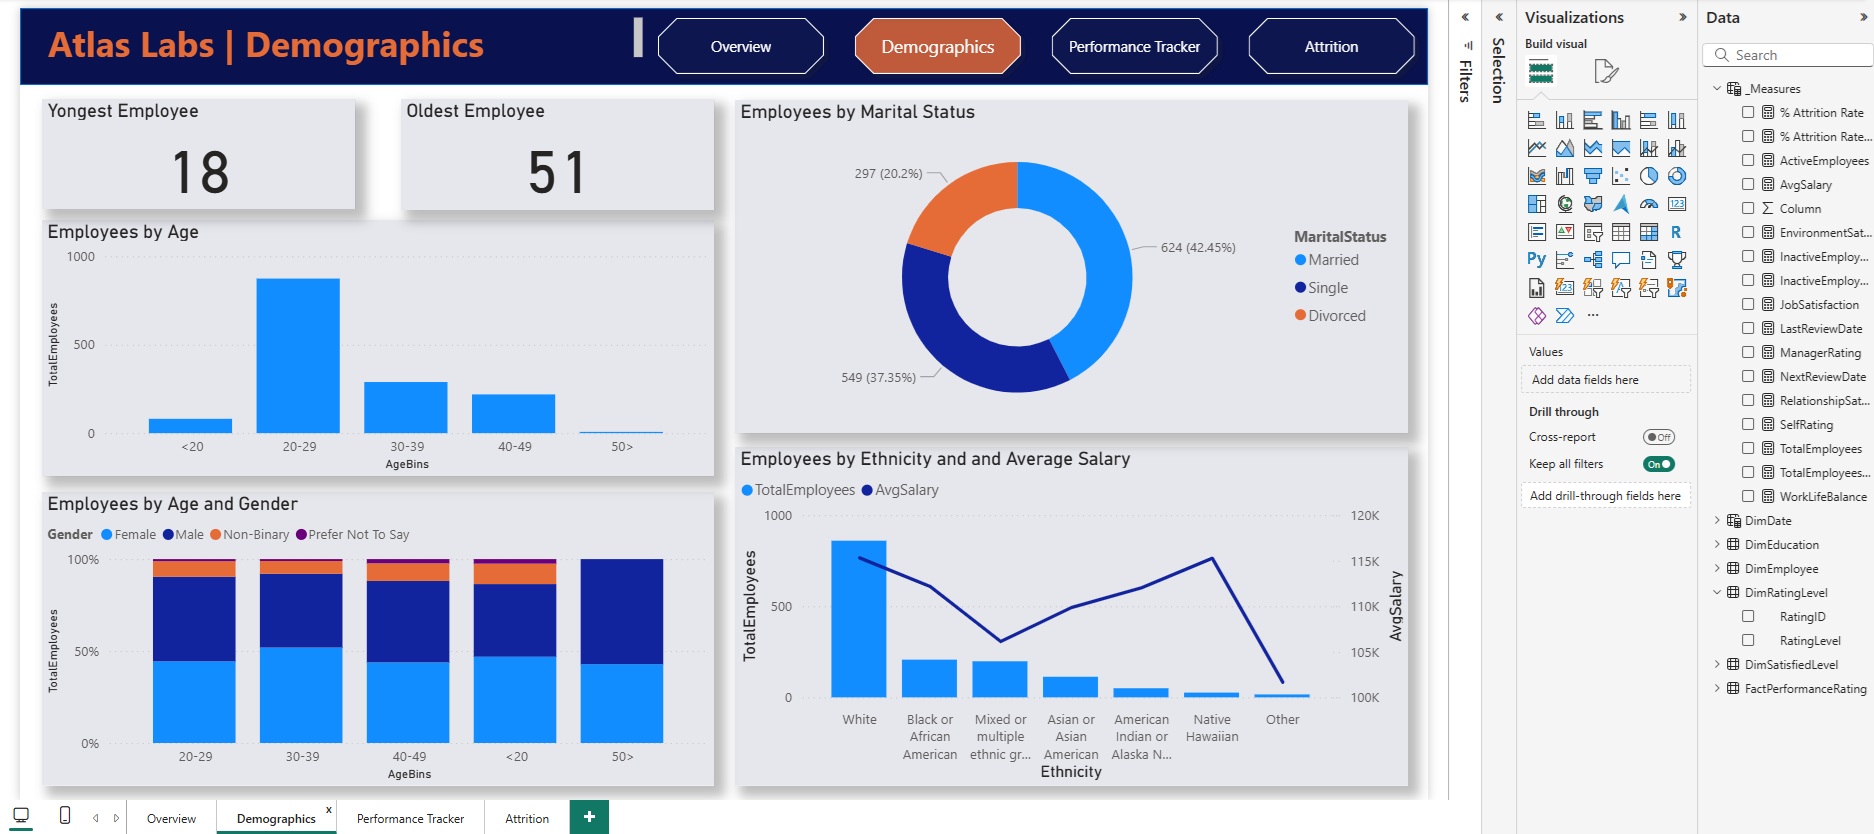

What the dashboard file says about the page in this screenshot:
{"tool":"powerbi","page":{"name":"Demographics","canvas":[1280,720],"ordinal":1},"visuals":[{"type":"card","title":"Yongest Employee","fields":{"Values":["Min(DimEmployee.Age)"]},"box":[19.8,82.6,285,100],"z":0},{"type":"card","title":"Oldest Employee","fields":{"Values":["Max(DimEmployee.Age)"]},"box":[346.5,82.6,284.6,100.5],"z":1000},{"type":"columnChart","title":"Employees by Age","fields":{"Y":["_Measures.TotalEmployees"],"Category":["DimEmployee.AgeBins"]},"box":[19.9,192.9,611.3,232.8],"z":2000},{"type":"hundredPercentStackedColumnChart","title":"Employees by Age and Gender","fields":{"Y":["_Measures.TotalEmployees"],"Category":["DimEmployee.AgeBins"],"Series":["DimEmployee.Gender"]},"box":[19.9,440.2,611.3,267.2],"z":3000},{"type":"donutChart","title":"Employees by Marital Status","fields":{"Y":["_Measures.TotalEmployees"],"Category":["DimEmployee.MaritalStatus"]},"box":[650.3,83.3,612.2,303.4],"z":4000},{"type":"lineStackedColumnComboChart","title":"Employees by Ethnicity and and Average Salary ","fields":{"Category":["DimEmployee.Ethnicity"],"Y2":["_Measures.AvgSalary"],"Y":["_Measures.TotalEmployees"]},"box":[650.3,399.4,612.2,307.9],"z":5000},{"type":"shape","box":[0,0,1280,70],"z":6000},{"type":"pageNavigator","box":[570.6,0,709.1,69.7],"z":7000},{"type":"textbox","box":[19.9,3.6,550.6,63.4],"z":8000}]}

Visuals, with their boxes on the page's 1280x720 design canvas (x1, y1, x2, y2). These are canvas units, not pixel positions in the 1874x834 screenshot, which may show the page scaled, cropped or inside an application window:
"Yongest Employee" card: l=20, t=83, r=305, b=183
"Oldest Employee" card: l=346, t=83, r=631, b=183
"Employees by Age" columnChart: l=20, t=193, r=631, b=426
"Employees by Age and Gender" hundredPercentStackedColumnChart: l=20, t=440, r=631, b=707
"Employees by Marital Status" donutChart: l=650, t=83, r=1262, b=387
"Employees by Ethnicity and and Average Salary " lineStackedColumnComboChart: l=650, t=399, r=1262, b=707
shape: l=0, t=0, r=1280, b=70
pageNavigator: l=571, t=0, r=1280, b=70
textbox: l=20, t=4, r=570, b=67
